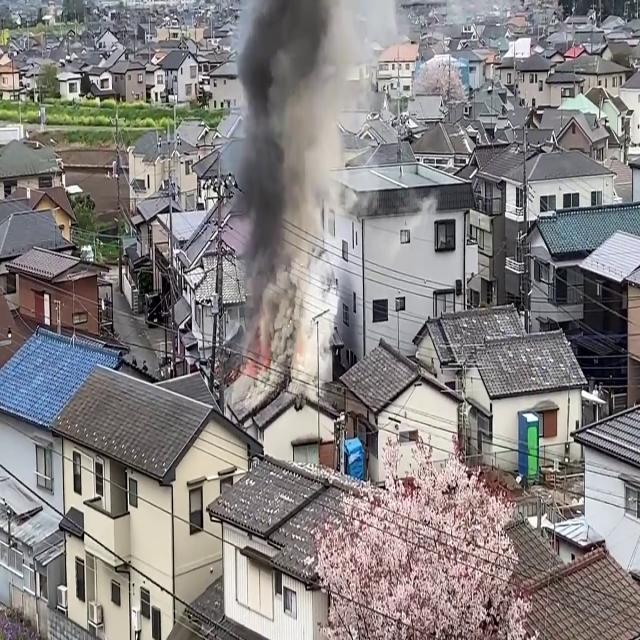Smoke: (228, 0, 370, 372)
